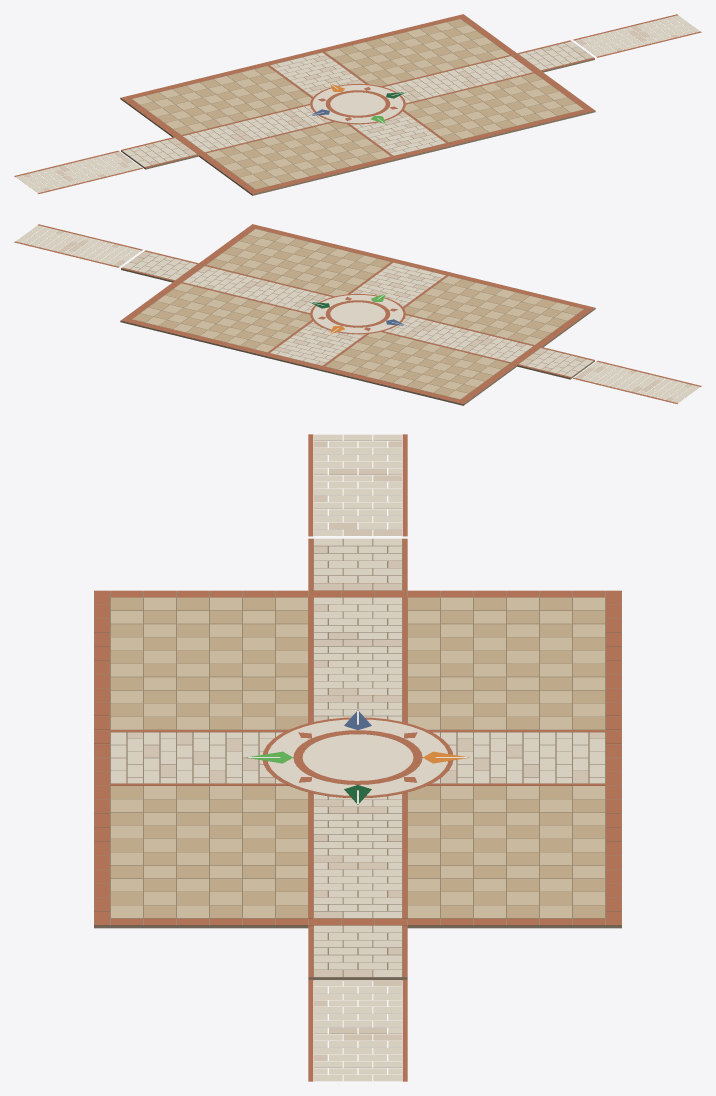
Rendered from CatCafe_Square_Paving.glb.
3 renders of one model, top to bottom at view 1: azimuth 30°, elevation 25°; view 2: azimuth 150°, elevation 25°; view 3: azimuth 270°, elevation 25°, orthographic. The views are drawn at different scales.
Visible parts, largest first — view 1: CatCafe_Square_Paving, CatCafe_Square_Paving_Slab; view 2: CatCafe_Square_Paving, CatCafe_Square_Paving_Slab; view 3: CatCafe_Square_Paving, CatCafe_Square_Paving_Slab.
Boxes of the visible parts, x1,y1,x2,y2 form: CatCafe_Square_Paving: [14, 14, 701, 194]; CatCafe_Square_Paving_Slab: [120, 14, 595, 195]; CatCafe_Square_Paving: [14, 224, 701, 404]; CatCafe_Square_Paving_Slab: [120, 224, 595, 405]; CatCafe_Square_Paving: [94, 434, 621, 1081]; CatCafe_Square_Paving_Slab: [94, 538, 621, 980].
Size of the model in its own units: 186 by 0.485 by 64.
Materials: 1 (1 with a texture image).
